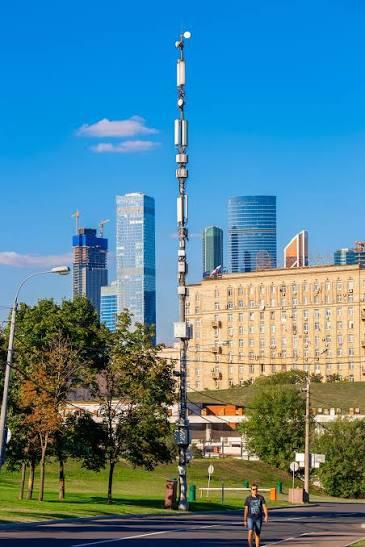odn_pole: (173, 30, 192, 511)
